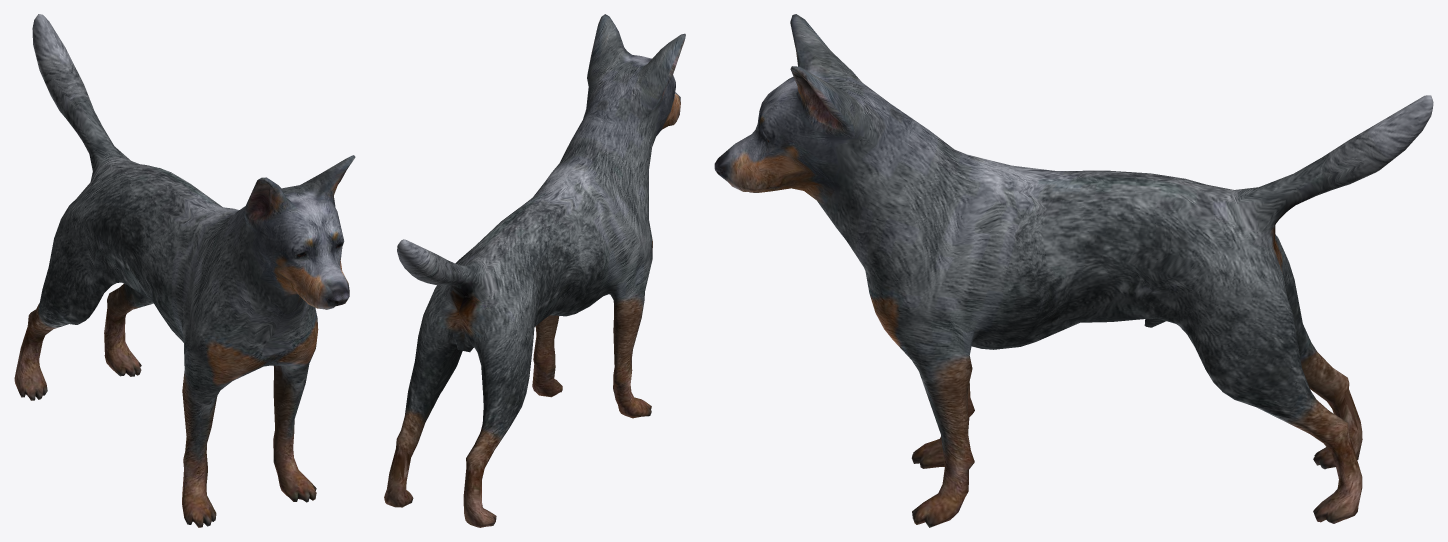
Rendered from dog.fbx.
3 renders of one model, left to right at view 1: azimuth 30°, elevation 25°; view 2: azimuth 150°, elevation 25°; view 3: azimuth 270°, elevation 25°, orthographic. The views are drawn at different scales.
Visible parts, largest first — view 1: 13463_Australian_Cattle_Dog_v3; view 2: 13463_Australian_Cattle_Dog_v3; view 3: 13463_Australian_Cattle_Dog_v3.
Boxes of the visible parts, x1,y1,x2,y2 form: 13463_Australian_Cattle_Dog_v3: (14, 14, 355, 527); 13463_Australian_Cattle_Dog_v3: (384, 14, 685, 527); 13463_Australian_Cattle_Dog_v3: (714, 14, 1433, 527).
Size of the model in its own units: 41.59 by 118 by 170.
1 material, 1 textured.
